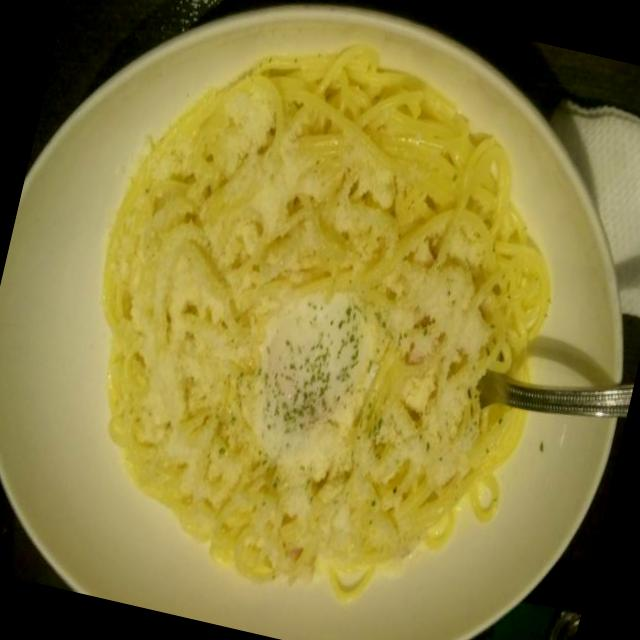Pasta: (36, 18, 589, 640)
